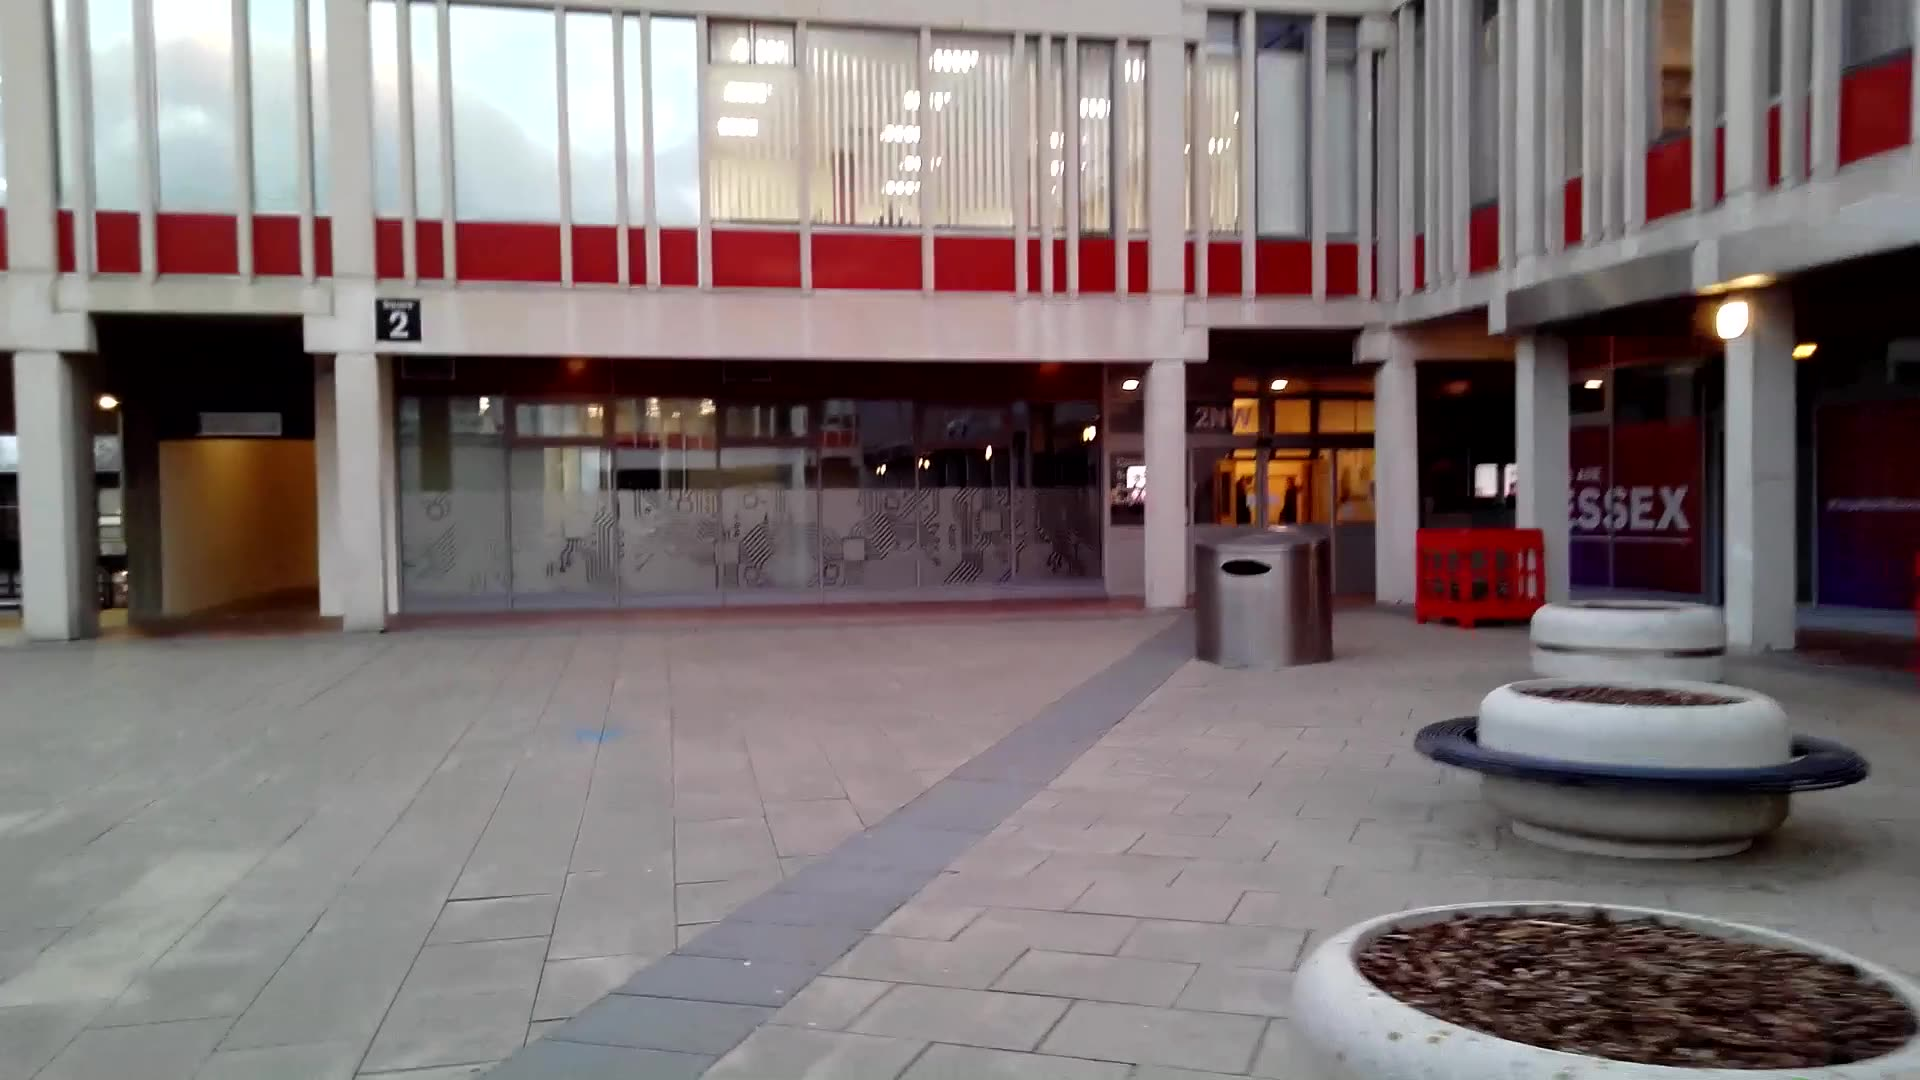Bin: (1196, 525, 1341, 682)
